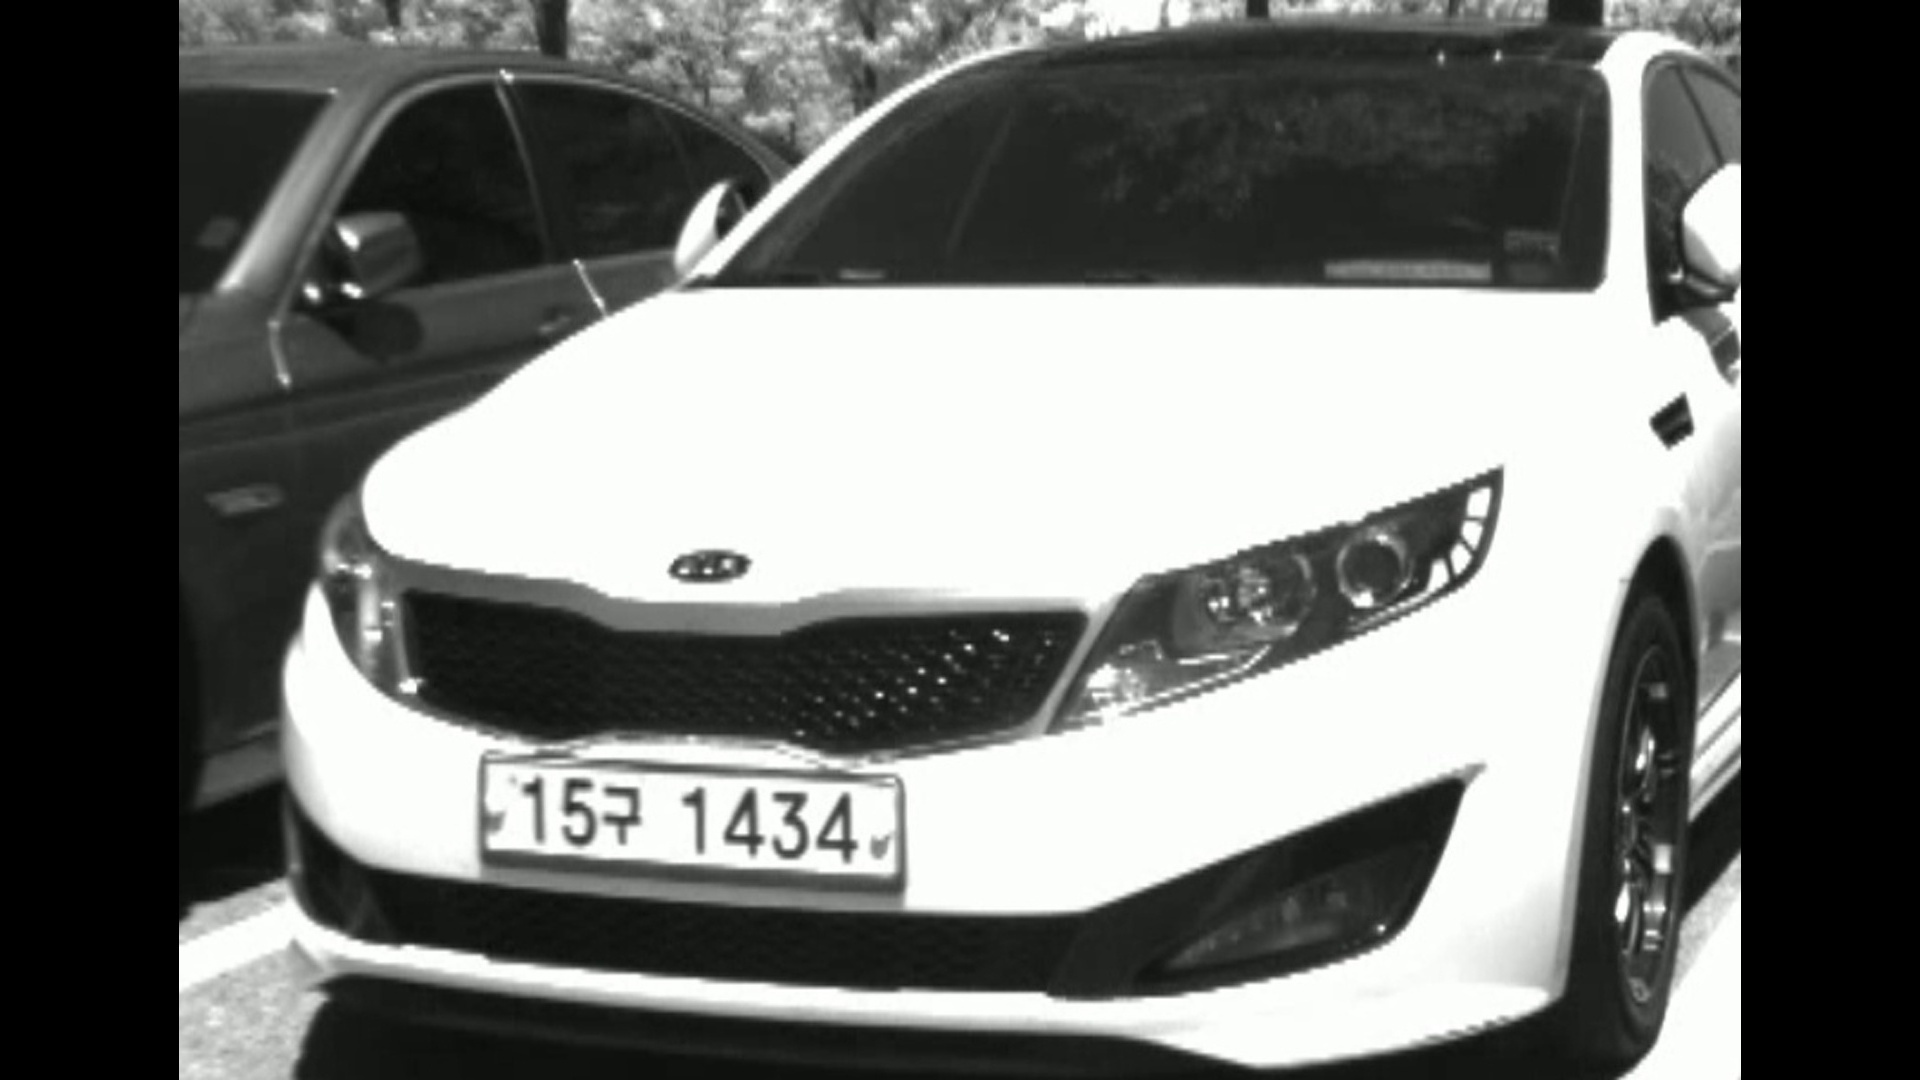license_plate: (476, 750, 906, 884)
